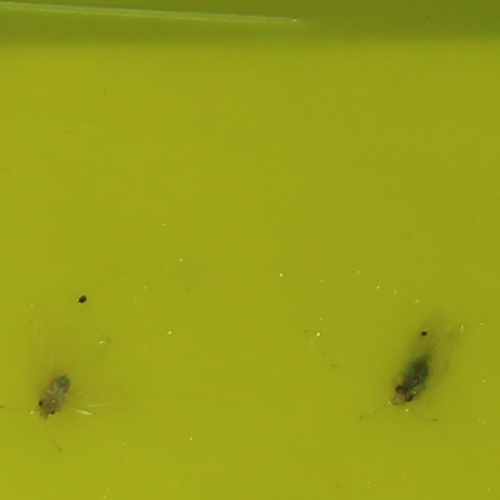Glycaspis: (389, 354, 434, 405), (36, 373, 71, 419)
